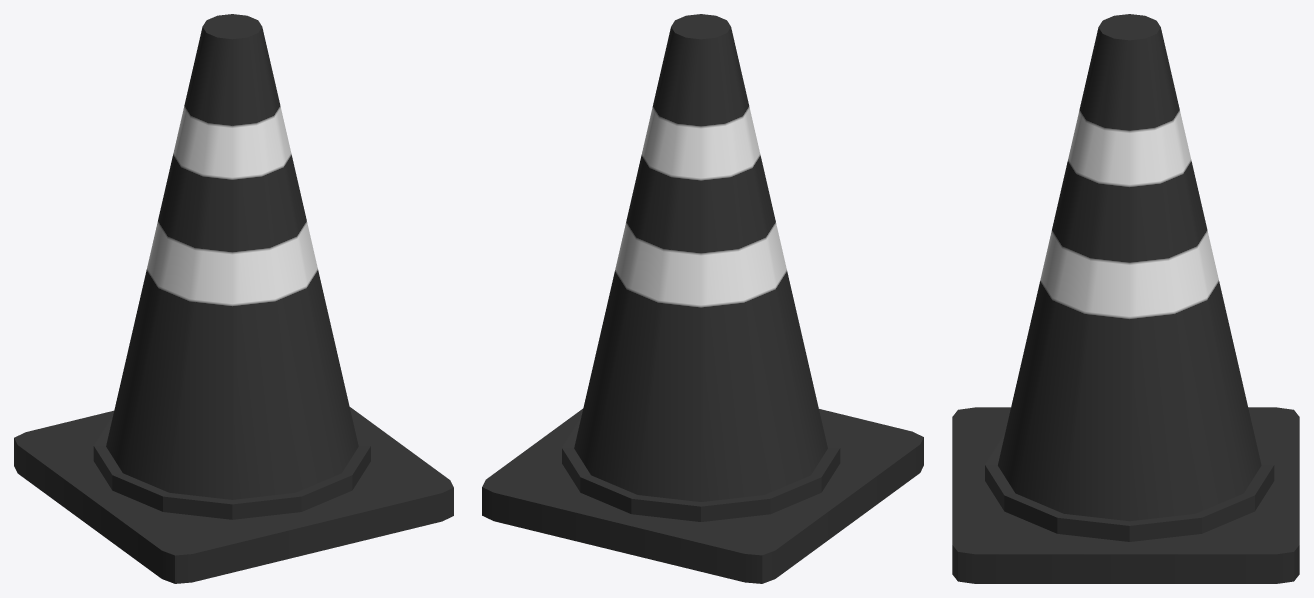
Rendered from Barricade_1.fbx.
3 renders of one model, left to right at view 1: azimuth 30°, elevation 25°; view 2: azimuth 150°, elevation 25°; view 3: azimuth 270°, elevation 25°, orthographic. The views are drawn at different scales.
Visible parts, largest first — view 1: Barricade_006; view 2: Barricade_006; view 3: Barricade_006.
Part boxes in pixels (x1,y1,x2,y2): Barricade_006: [14, 14, 453, 583]; Barricade_006: [482, 14, 923, 583]; Barricade_006: [952, 14, 1299, 583].
Size of the model in its own units: 62.23 by 95.51 by 62.23.
